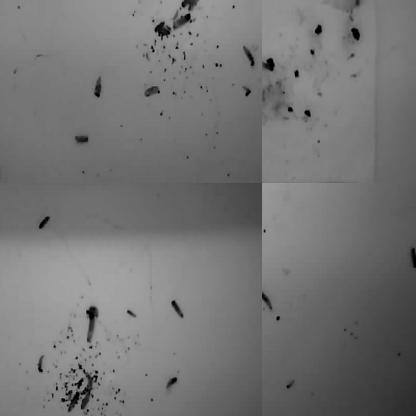PtecticusTenebrifer: (86, 312, 96, 344), (242, 44, 255, 68), (66, 392, 80, 412), (173, 14, 191, 29), (171, 301, 185, 320), (38, 214, 52, 231), (81, 390, 92, 410), (142, 85, 160, 97), (262, 289, 272, 310), (93, 74, 101, 98), (181, 0, 200, 9), (74, 134, 90, 144), (166, 377, 178, 390), (262, 183, 280, 191), (37, 354, 44, 373), (323, 183, 342, 190), (0, 373, 6, 395), (262, 276, 267, 301), (124, 0, 144, 5), (262, 396, 267, 416), (262, 64, 270, 76), (262, 275, 266, 298), (262, 258, 265, 287), (221, 0, 238, 5), (0, 0, 14, 6), (212, 0, 221, 9), (385, 183, 391, 192), (203, 0, 209, 8), (364, 183, 376, 187), (262, 183, 268, 191), (262, 226, 265, 241), (0, 183, 8, 187)
